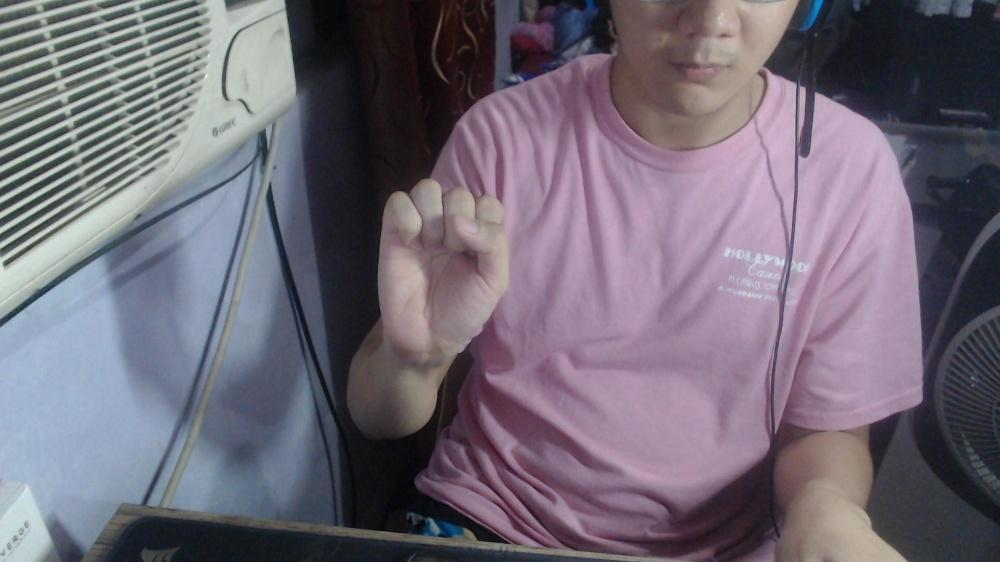s: (374, 175, 512, 358)
